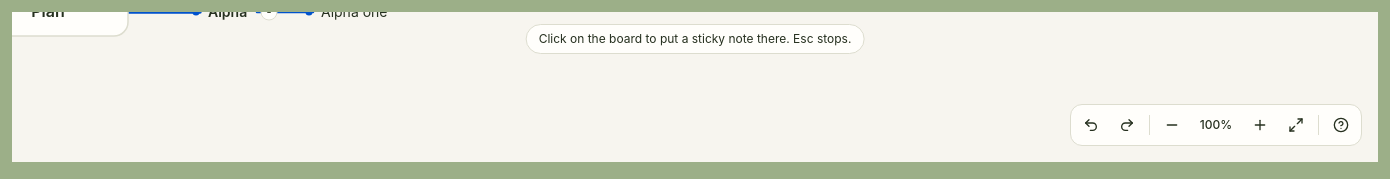
it: shapes on the board › puts a shape down where the board is clicked with a shape tool, selects it, opens it for typing, and goes back to selecting
Check: the message "Click on the board to put a sticky note there. Esc stops." is shown, box [526,24,864,54]
Press the mouse on the icon with class "touch-none" at point(695, 87), box [12,12,1378,162]
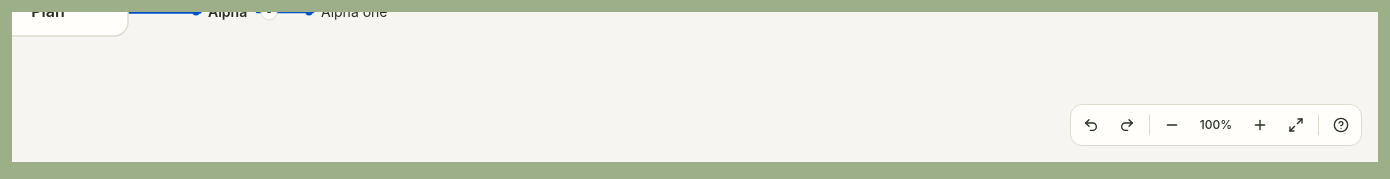
Check: the message "Click on the board to put a sticky note there. Esc stops." is gone
